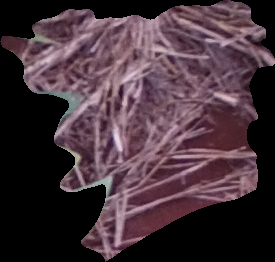soil: (2, 1, 273, 261)
